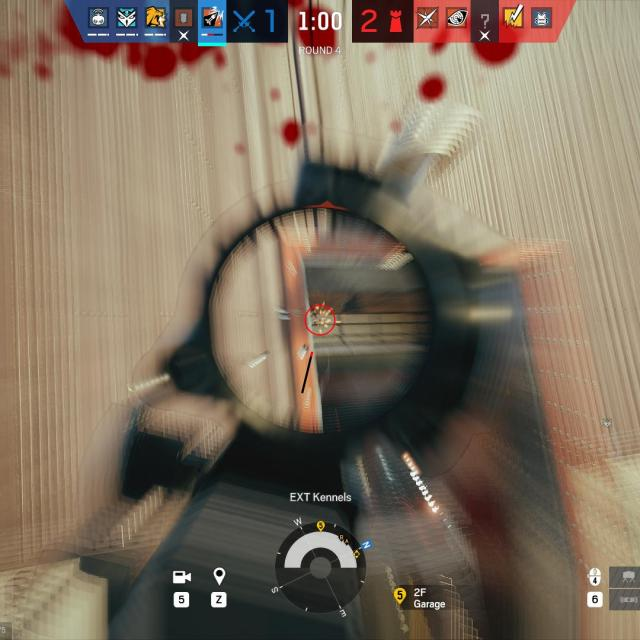Character: (341, 294, 364, 314)
